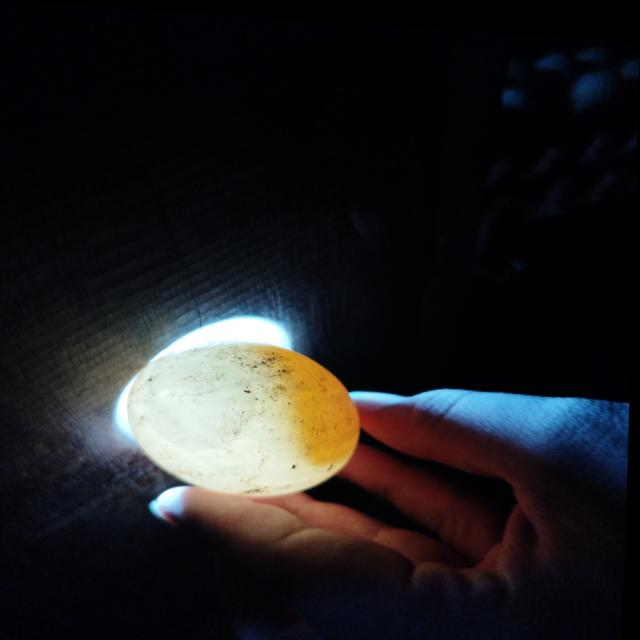Camara de Ar: (142, 358, 254, 448)
Gema Quebrada: (248, 340, 363, 461)
